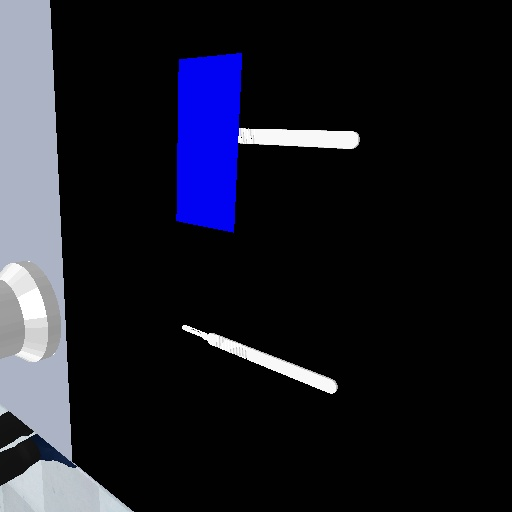bisturi: (176, 322, 342, 397), (235, 124, 362, 151)
